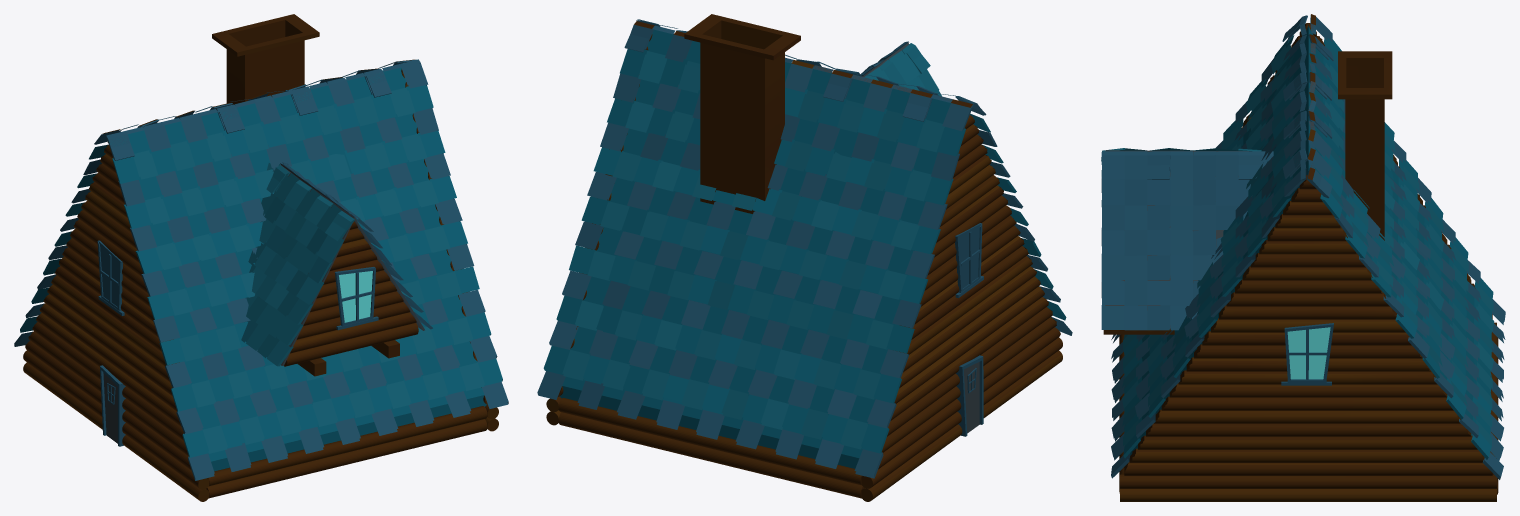
The model's file is home1.fbx.
3 views of the same model, side by side, from view 1: azimuth 30°, elevation 25°; view 2: azimuth 150°, elevation 25°; view 3: azimuth 270°, elevation 25° (orthographic). The views are drawn at different scales.
Parts seen in each view (by area): view 1: Cylinder.001; view 2: Cylinder.001; view 3: Cylinder.001.
Part boxes in pixels (box(x1,y1,x2,y2)): Cylinder.001: box(14, 14, 508, 501); Cylinder.001: box(537, 14, 1072, 501); Cylinder.001: box(1101, 14, 1505, 501).
Size of the model in its own units: 868 by 906 by 902.
6 materials, 1 textured.
